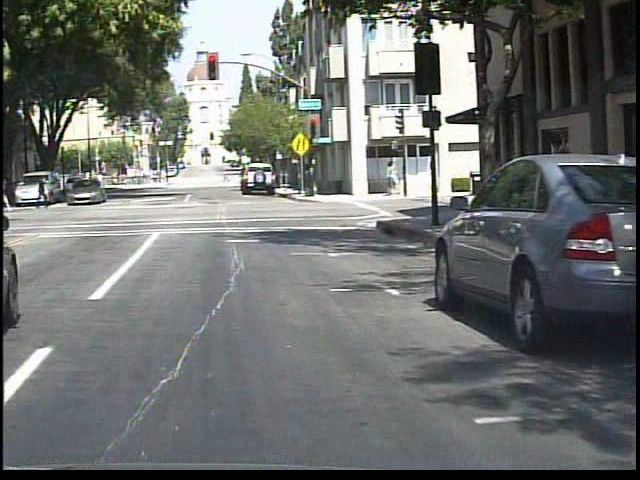person: (34, 172, 49, 212), (218, 171, 232, 188), (5, 175, 6, 214)
